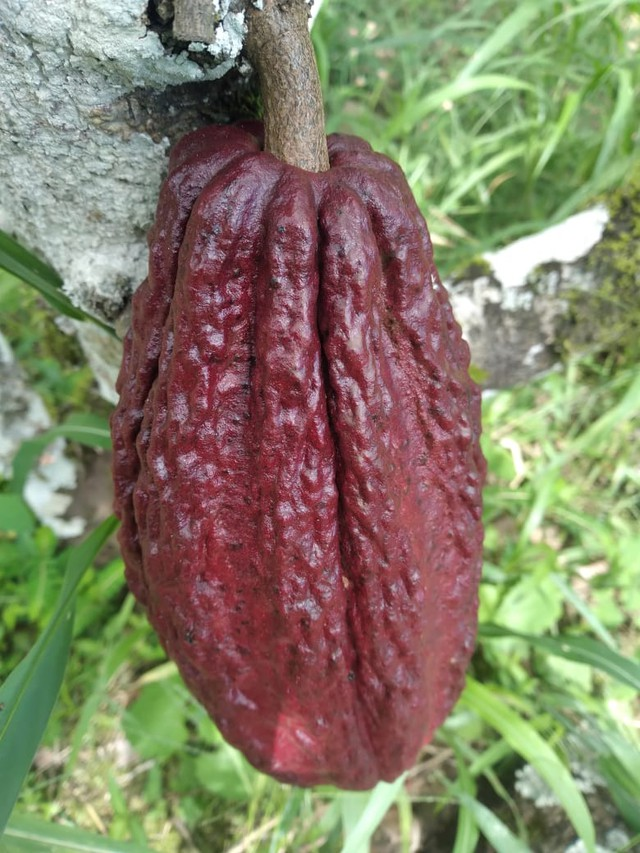Health: (90, 94, 515, 805)
